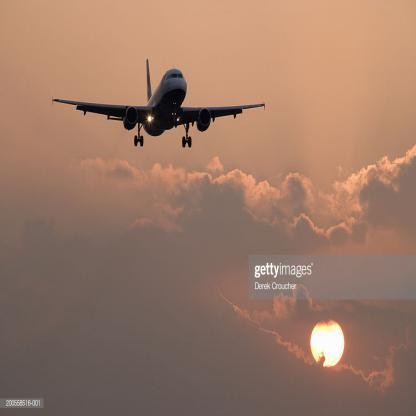CIV_Plane: (44, 56, 268, 154)
